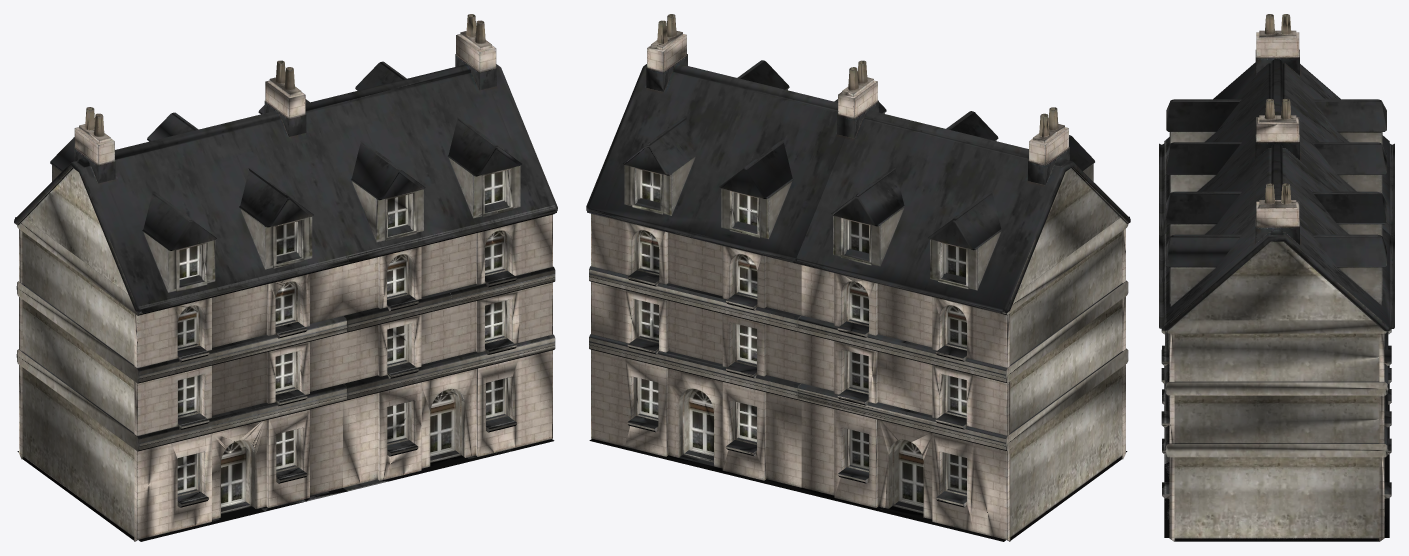
Rendered from bld22_20b.glb.
The picture shows the model from 3 angles, left to right: view 1: azimuth 30°, elevation 25°; view 2: azimuth 150°, elevation 25°; view 3: azimuth 270°, elevation 25°; orthographic projection. The views are drawn at different scales.
Parts seen in each view (by area): view 1: bld22_20b; view 2: bld22_20b; view 3: bld22_20b.
Part boxes in pixels (bbox=[...]): bld22_20b: bbox=[14, 14, 557, 541]; bld22_20b: bbox=[586, 14, 1130, 541]; bld22_20b: bbox=[1159, 14, 1394, 541].
Size of the model in its own units: 39.9 by 34.74 by 21.25.
1 material, 1 textured.
